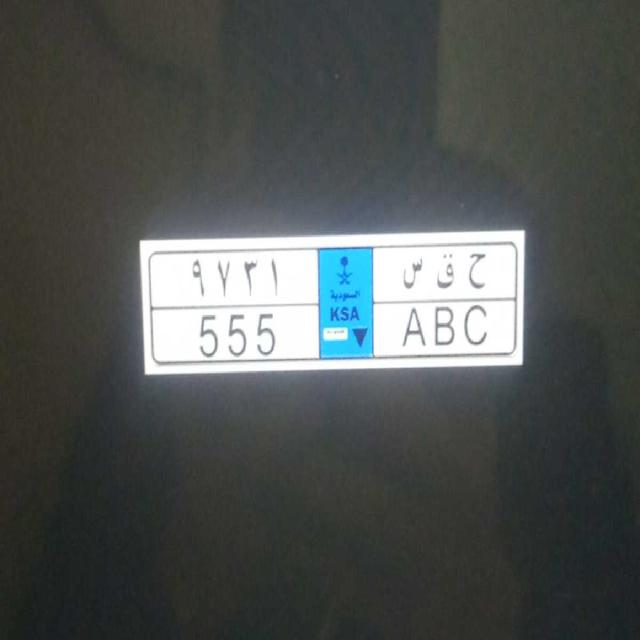license_plate: (163, 298, 504, 367)
